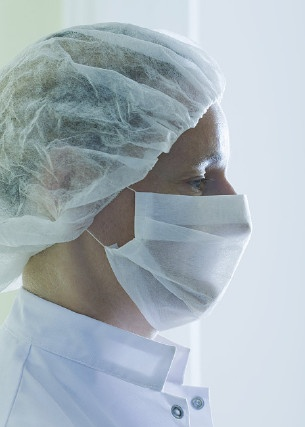Mask: (69, 131, 262, 324)
